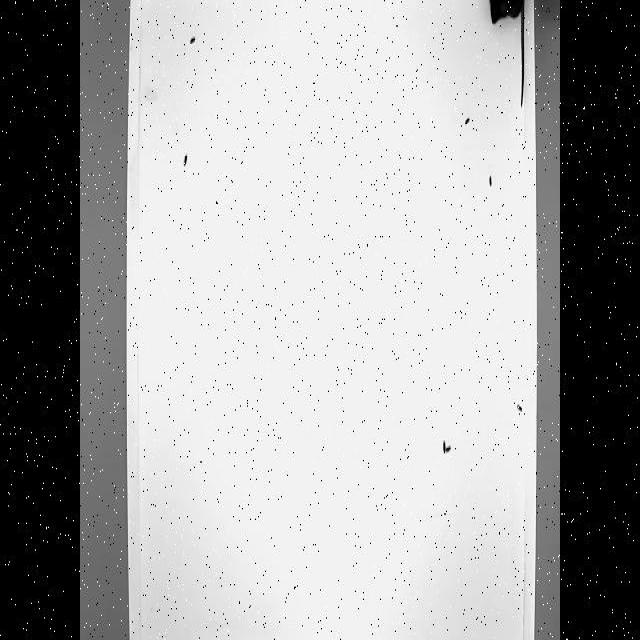rat: (489, 0, 527, 108)
